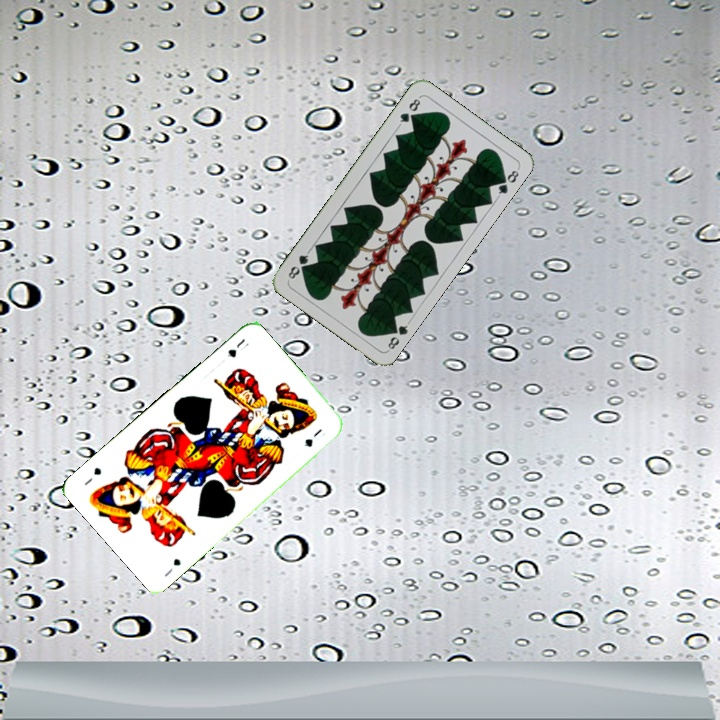G8: (384, 318, 412, 354), (395, 93, 423, 128)
GU: (223, 334, 248, 360), (160, 554, 184, 580)
